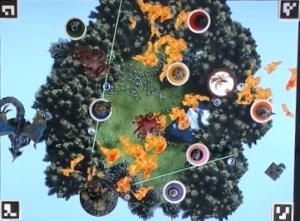blue: (88, 96, 114, 123)
green: (62, 16, 88, 41)
orange: (250, 98, 274, 122)
pink: (185, 141, 211, 166)
red: (186, 8, 213, 33)
violet: (162, 178, 188, 204)
yellow: (167, 59, 191, 85)
